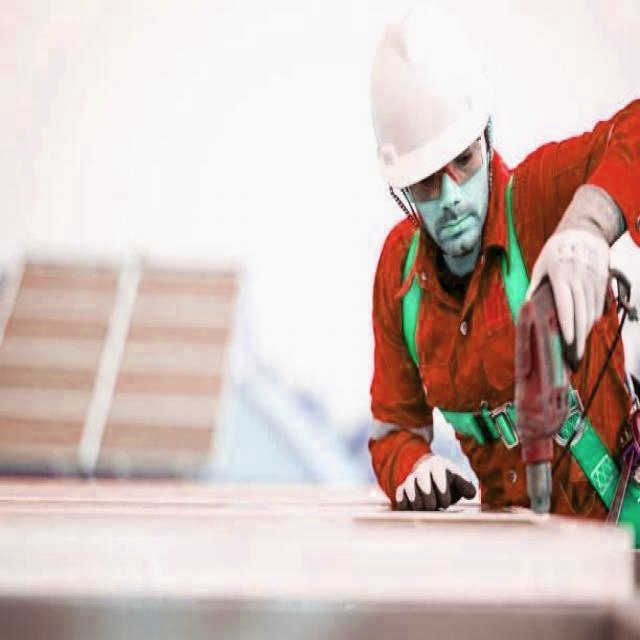safety belt: (377, 235, 614, 514)
